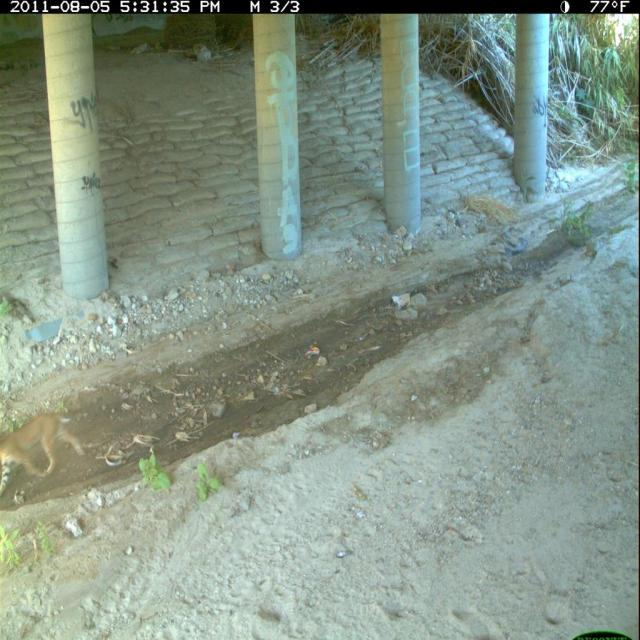bobcat: (2, 406, 89, 482)
